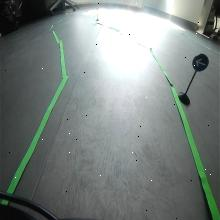left: (192, 52, 209, 73)
